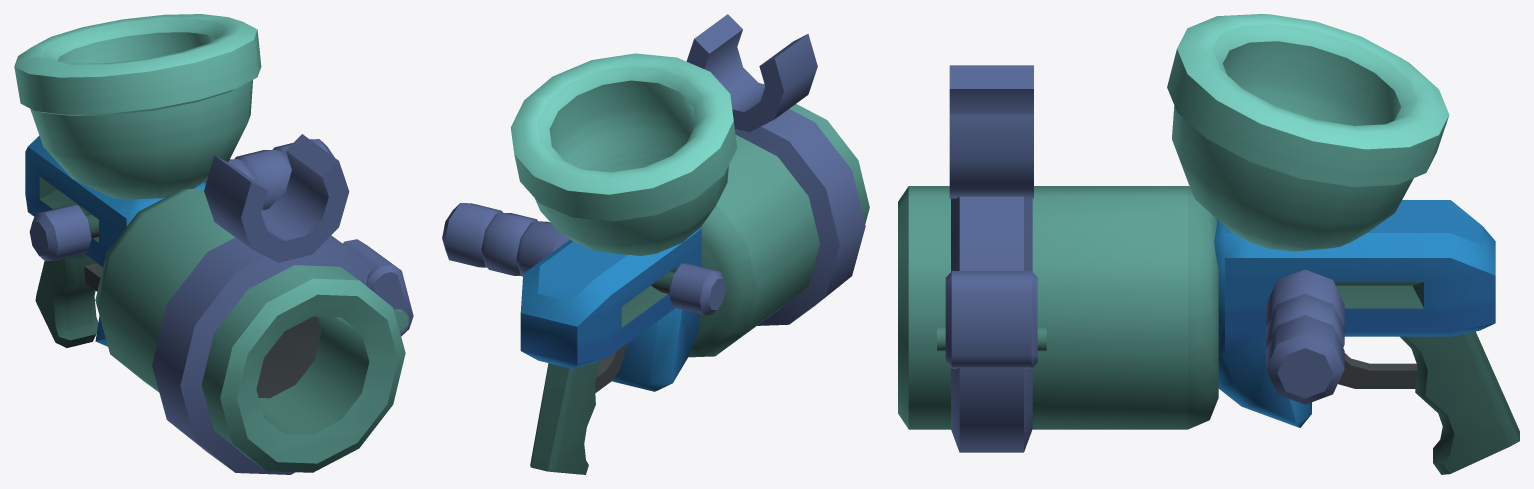
The model's file is kk_holiday_spores_canon.glb.
The picture shows the model from 3 angles, left to right: view 1: azimuth 30°, elevation 25°; view 2: azimuth 150°, elevation 25°; view 3: azimuth 270°, elevation 25°; orthographic projection. The views are drawn at different scales.
Visible parts, largest first — view 1: snowball_cannon; view 2: snowball_cannon; view 3: snowball_cannon.
Boxes of the visible parts, left/top/right/bottom form: snowball_cannon: left=14, top=14, right=413, bottom=474; snowball_cannon: left=442, top=14, right=869, bottom=474; snowball_cannon: left=898, top=14, right=1519, bottom=474.
Size of the model in its own units: 0.6016 by 0.714 by 0.9509.
1 material, 1 textured.
